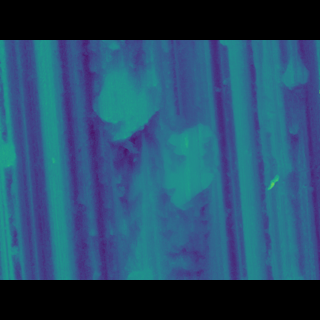Loch: (156, 125, 213, 249), (89, 87, 169, 149)
